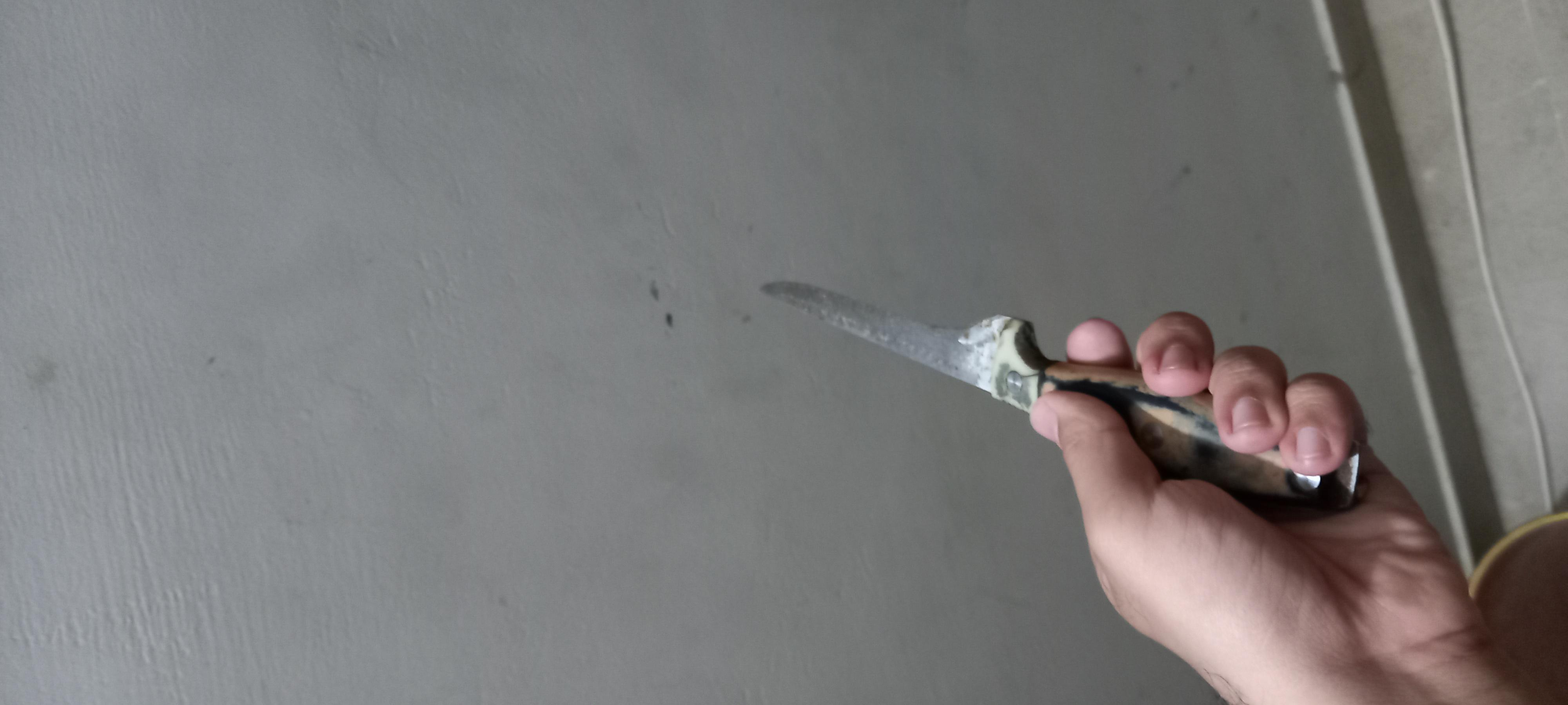knives: (443, 339, 982, 627)
